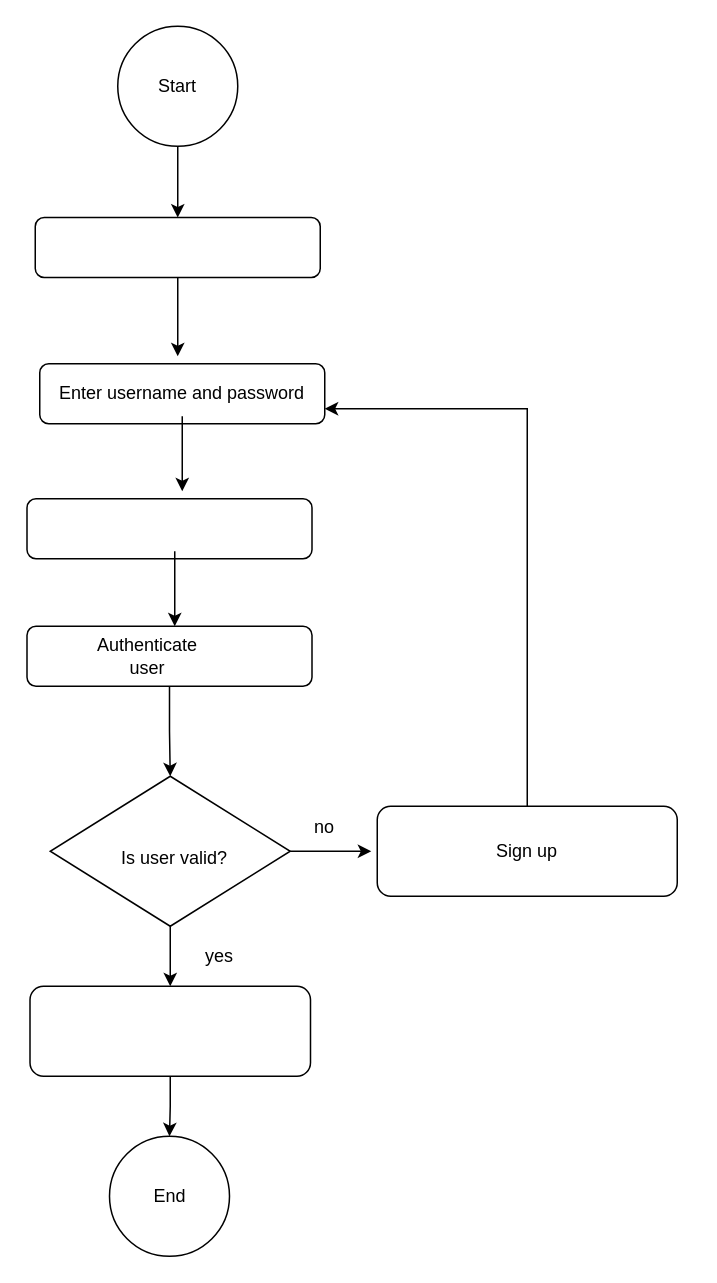
The diagram is 717 pixels wide and 1283 high, and some of its shapes have lost their labels. Each missing label, with the centre of its shape:
Go to homepage: [169,1030]
Load login page: [177,247]
Submit username and password: [169,528]
